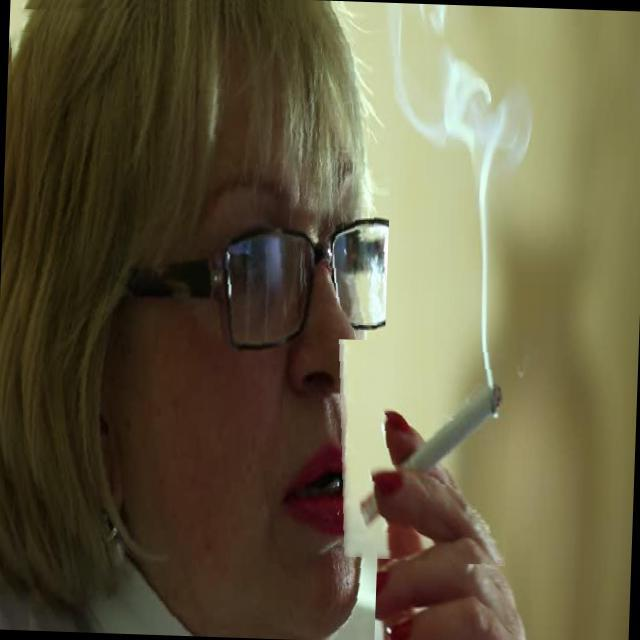cigarette: (332, 338, 514, 566)
